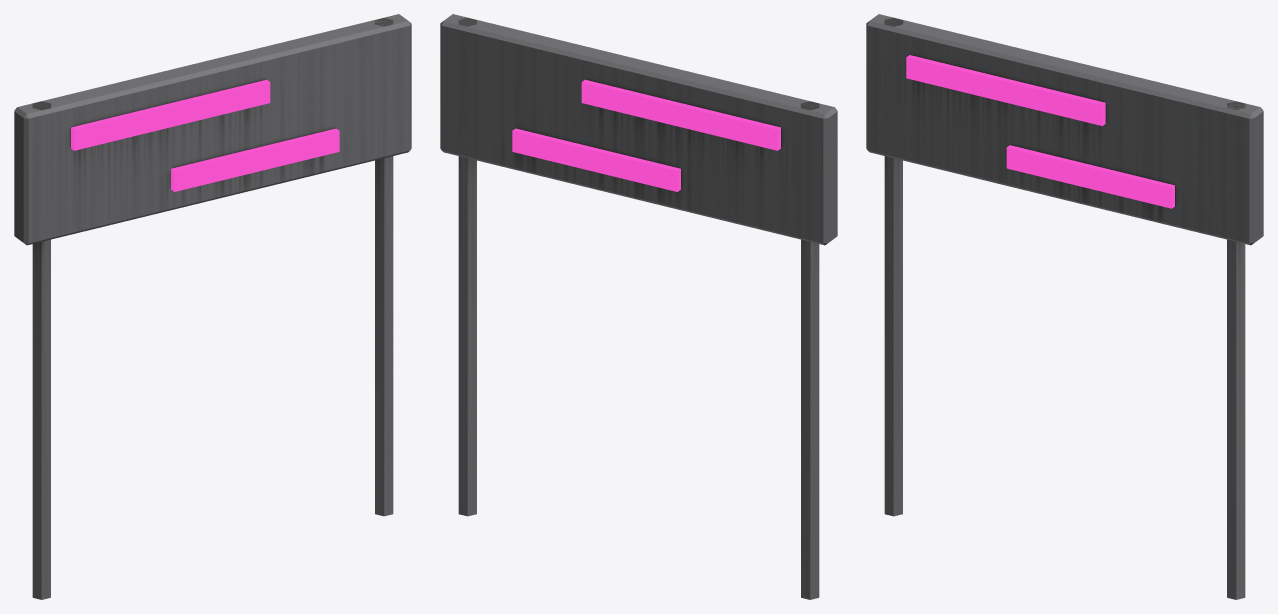
The model's file is nodexeus-set-sign-d.glb.
3 views of the same model, side by side, from view 1: azimuth 30°, elevation 25°; view 2: azimuth 150°, elevation 25°; view 3: azimuth 330°, elevation 25° (orthographic).
Parts seen in each view (by area): view 1: set-sign-d; view 2: set-sign-d; view 3: set-sign-d.
Part boxes in pixels (x1,y1,x2,y2): set-sign-d: (14,14,411,599); set-sign-d: (440,14,837,599); set-sign-d: (866,14,1263,599).
Size of the model in its own units: 1.7 by 2.05 by 0.15.
1 material, 1 textured.
